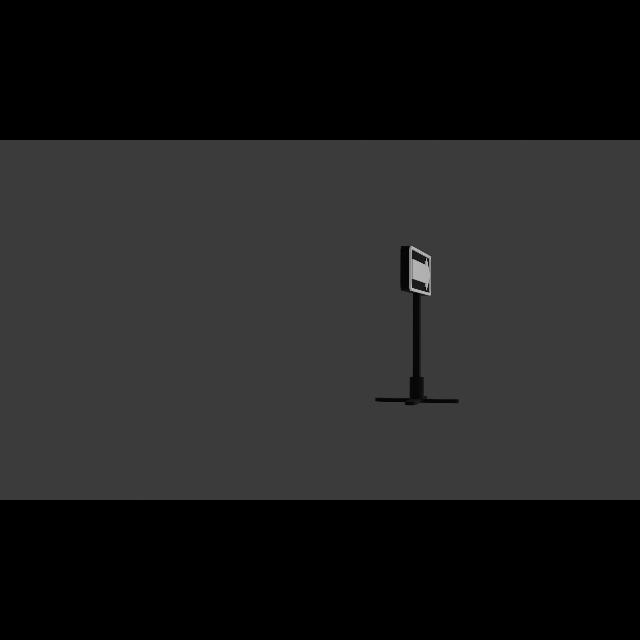sign_oneway_right: (403, 246, 436, 298)
